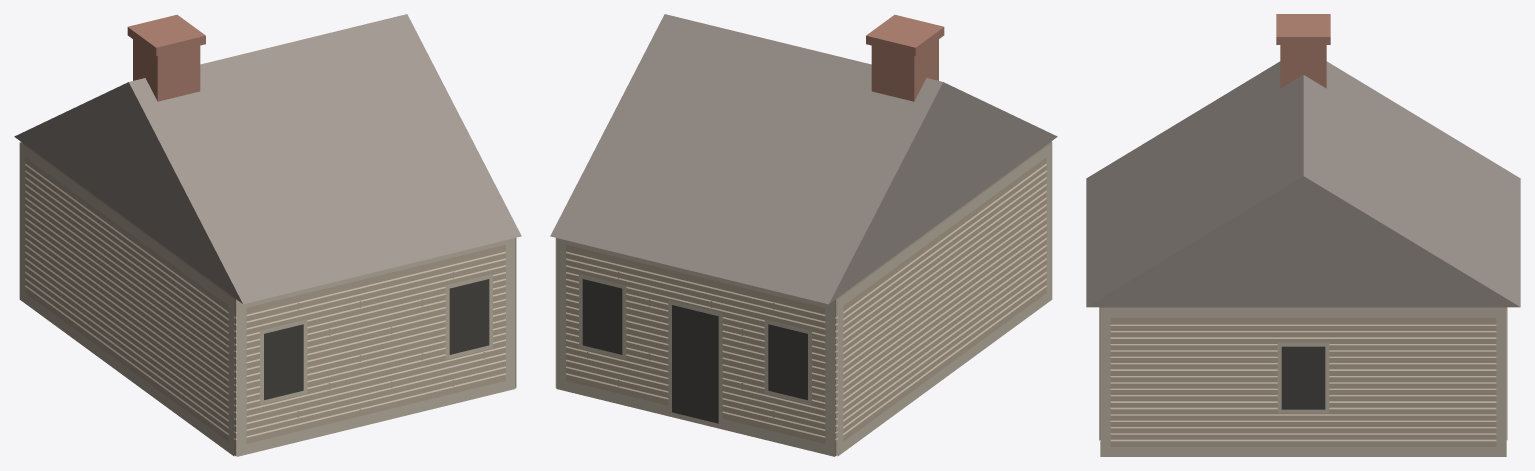
The model's file is inf_carpenter_dwelling_north__inferred_1835.glb.
3 views of the same model, side by side, from view 1: azimuth 30°, elevation 25°; view 2: azimuth 150°, elevation 25°; view 3: azimuth 270°, elevation 25° (orthographic). The views are drawn at different scales.
Parts seen in each view (by area): view 1: inf_carpenter_dwelling_north__inferred_1835; view 2: inf_carpenter_dwelling_north__inferred_1835; view 3: inf_carpenter_dwelling_north__inferred_1835.
Boxes of the visible parts, <box> form: inf_carpenter_dwelling_north__inferred_1835: <box>14,14,521,456</box>; inf_carpenter_dwelling_north__inferred_1835: <box>550,14,1057,456</box>; inf_carpenter_dwelling_north__inferred_1835: <box>1086,14,1520,456</box>.
Size of the model in its own units: 5.57 by 6.34 by 7.82.
